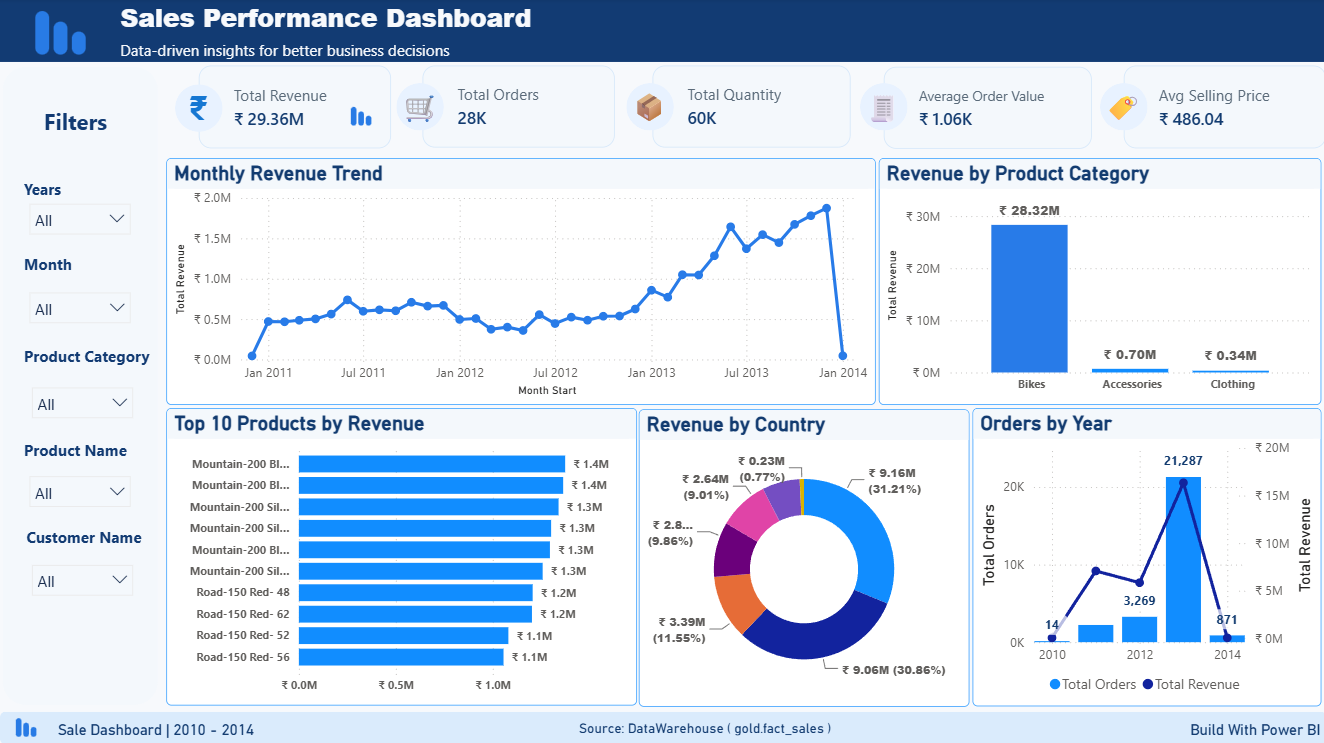

What the dashboard file says about the page in this screenshot:
{"tool":"powerbi","page":{"name":"Sales Dashboard","canvas":[1280,720],"ordinal":0},"visuals":[{"type":"shape","box":[0,0,1280,70],"z":0},{"type":"textbox","title":"Sales Performance Dashboard","box":[28.6,4.3,447.1,65.7],"z":1000},{"type":"shape","box":[0,78.8,150.2,599.4],"z":2000},{"type":"textbox","title":"Filters","box":[38.2,113.2,73.8,25.8],"z":3000},{"type":"slicer","fields":{"Values":["dim_dates.year"]},"box":[16,200.6,118.2,59.1],"z":4000},{"type":"textbox","title":"Years","box":[16.7,186.4,73.7,26.4],"z":5000},{"type":"textbox","title":"Month","box":[16.7,258.8,73.7,25],"z":6000},{"type":"slicer","fields":{"Values":["gold dim_products.category"]},"box":[18.1,378.4,118.3,59.8],"z":7000},{"type":"textbox","title":"Product Category","box":[16.7,347.8,155.8,25],"z":8000},{"type":"slicer","fields":{"Values":["gold dim_products.product_name"]},"box":[16.7,463.3,118.3,59.8],"z":9000},{"type":"textbox","title":"Product Name","box":[16.7,438.3,112.7,25],"z":10000},{"type":"slicer","fields":{"Values":["gold dim_customers.customer_name"]},"box":[18.1,549.6,118.3,58.4],"z":11000},{"type":"textbox","title":"Customer Name","box":[18.1,523.1,132.2,26.4],"z":12000},{"type":"slicer","fields":{"Values":["dim_dates.month"]},"box":[16.7,286.6,118.3,52.9],"z":13000},{"type":"lineChart","title":"Monthly Revenue Trend","fields":{"Y":["measures_table.Total_Revenue"],"Category":["dim_dates.Month Start"]},"box":[158,166.7,682.8,235.3],"z":14000},{"type":"cardVisual","title":"Total","fields":{"Data":["measures_table.Total_Revenue"]},"box":[189.4,77.9,185.2,80],"z":15000},{"type":"cardVisual","fields":{"Data":["measures_table.Total_Orders"]},"box":[406.2,77.9,185.2,79.6],"z":16000},{"type":"cardVisual","fields":{"Data":["measures_table.Total_Quantity"]},"box":[627.9,77.9,191.1,79.5],"z":17000},{"type":"cardVisual","fields":{"Data":["measures_table.Average_order_Value"]},"box":[850.5,78.4,201.1,79.5],"z":18000},{"type":"cardVisual","fields":{"Data":["measures_table.Avg_Selling_Price"]},"box":[1082.6,77.9,185.3,79.5],"z":19000},{"type":"shape","box":[166.6,95.7,46,46],"z":20000},{"type":"textbox","title":"₹","box":[157.5,101.4,64.6,36.9],"z":21000},{"type":"shape","box":[380.9,95.3,46,46],"z":22000},{"type":"textbox","title":"🛒","box":[372.5,99.8,61.9,57.5],"z":23000},{"type":"shape","box":[601.9,94.3,46,46],"z":24000},{"type":"textbox","title":"📦","box":[593.4,98.9,61.9,57.5],"z":25000},{"type":"shape","box":[827.4,94.6,46,46],"z":26000},{"type":"textbox","title":"🧾","box":[819,99.2,61.9,57.5],"z":27000},{"type":"shape","box":[1059.7,95,46,46],"z":28000},{"type":"textbox","title":"🏷️","box":[1051.3,99.5,61.9,57.5],"z":29000},{"type":"clusteredColumnChart","title":"Revenue by Product Category","fields":{"Y":["measures_table.Total Revenue"],"Category":["gold dim_products.category"]},"box":[850.5,166.7,417.4,235.3],"z":30000},{"type":"clusteredBarChart","title":"Top 10 Products by Revenue","fields":{"Y":["measures_table.Total Revenue"],"Category":["gold dim_products.product_name"]},"box":[158,407.8,444,287.1],"z":31000},{"type":"donutChart","title":"Revenue by Country","fields":{"Y":["measures_table.Total Revenue"],"Category":["gold dim_customers.country"]},"box":[610.5,407.8,322.1,287.1],"z":32000},{"type":"lineStackedColumnComboChart","title":"Orders by Year","fields":{"Category":["dim_dates.year"],"Y2":["measures_table.Total Revenue"],"Y":["measures_table.Total Orders"]},"box":[941,411.4,326.9,283.5],"z":33000}]}

Visuals, with their boxes in screenshot pixels (x1, y1, x2, y2), scaled from the page's 1280x720 canvas onto the 1324x743 screenshot:
shape: (x1=0, y1=0, x2=1323, y2=72)
"Sales Performance Dashboard" textbox: (x1=30, y1=4, x2=492, y2=72)
shape: (x1=0, y1=81, x2=155, y2=700)
"Filters" textbox: (x1=40, y1=117, x2=116, y2=143)
slicer - dim_dates.year: (x1=17, y1=207, x2=139, y2=268)
"Years" textbox: (x1=17, y1=192, x2=94, y2=220)
"Month" textbox: (x1=17, y1=267, x2=94, y2=293)
slicer - gold dim_products.category: (x1=19, y1=390, x2=141, y2=452)
"Product Category" textbox: (x1=17, y1=359, x2=178, y2=385)
slicer - gold dim_products.product_name: (x1=17, y1=478, x2=140, y2=540)
"Product Name" textbox: (x1=17, y1=452, x2=134, y2=478)
slicer - gold dim_customers.customer_name: (x1=19, y1=567, x2=141, y2=627)
"Customer Name" textbox: (x1=19, y1=540, x2=155, y2=567)
slicer - dim_dates.month: (x1=17, y1=296, x2=140, y2=350)
"Monthly Revenue Trend" lineChart: (x1=163, y1=172, x2=870, y2=415)
"Total" cardVisual: (x1=196, y1=80, x2=387, y2=163)
cardVisual - measures_table.Total_Orders: (x1=420, y1=80, x2=612, y2=163)
cardVisual - measures_table.Total_Quantity: (x1=649, y1=80, x2=847, y2=162)
cardVisual - measures_table.Average_order_Value: (x1=880, y1=81, x2=1088, y2=163)
cardVisual - measures_table.Avg_Selling_Price: (x1=1120, y1=80, x2=1311, y2=162)
shape: (x1=172, y1=99, x2=220, y2=146)
"₹" textbox: (x1=163, y1=105, x2=230, y2=143)
shape: (x1=394, y1=98, x2=442, y2=146)
"🛒" textbox: (x1=385, y1=103, x2=449, y2=162)
shape: (x1=623, y1=97, x2=670, y2=145)
"📦" textbox: (x1=614, y1=102, x2=678, y2=161)
shape: (x1=856, y1=98, x2=903, y2=145)
"🧾" textbox: (x1=847, y1=102, x2=911, y2=162)
shape: (x1=1096, y1=98, x2=1144, y2=146)
"🏷️" textbox: (x1=1087, y1=103, x2=1151, y2=162)
"Revenue by Product Category" clusteredColumnChart: (x1=880, y1=172, x2=1311, y2=415)
"Top 10 Products by Revenue" clusteredBarChart: (x1=163, y1=421, x2=623, y2=717)
"Revenue by Country" donutChart: (x1=631, y1=421, x2=965, y2=717)
"Orders by Year" lineStackedColumnComboChart: (x1=973, y1=425, x2=1311, y2=717)
